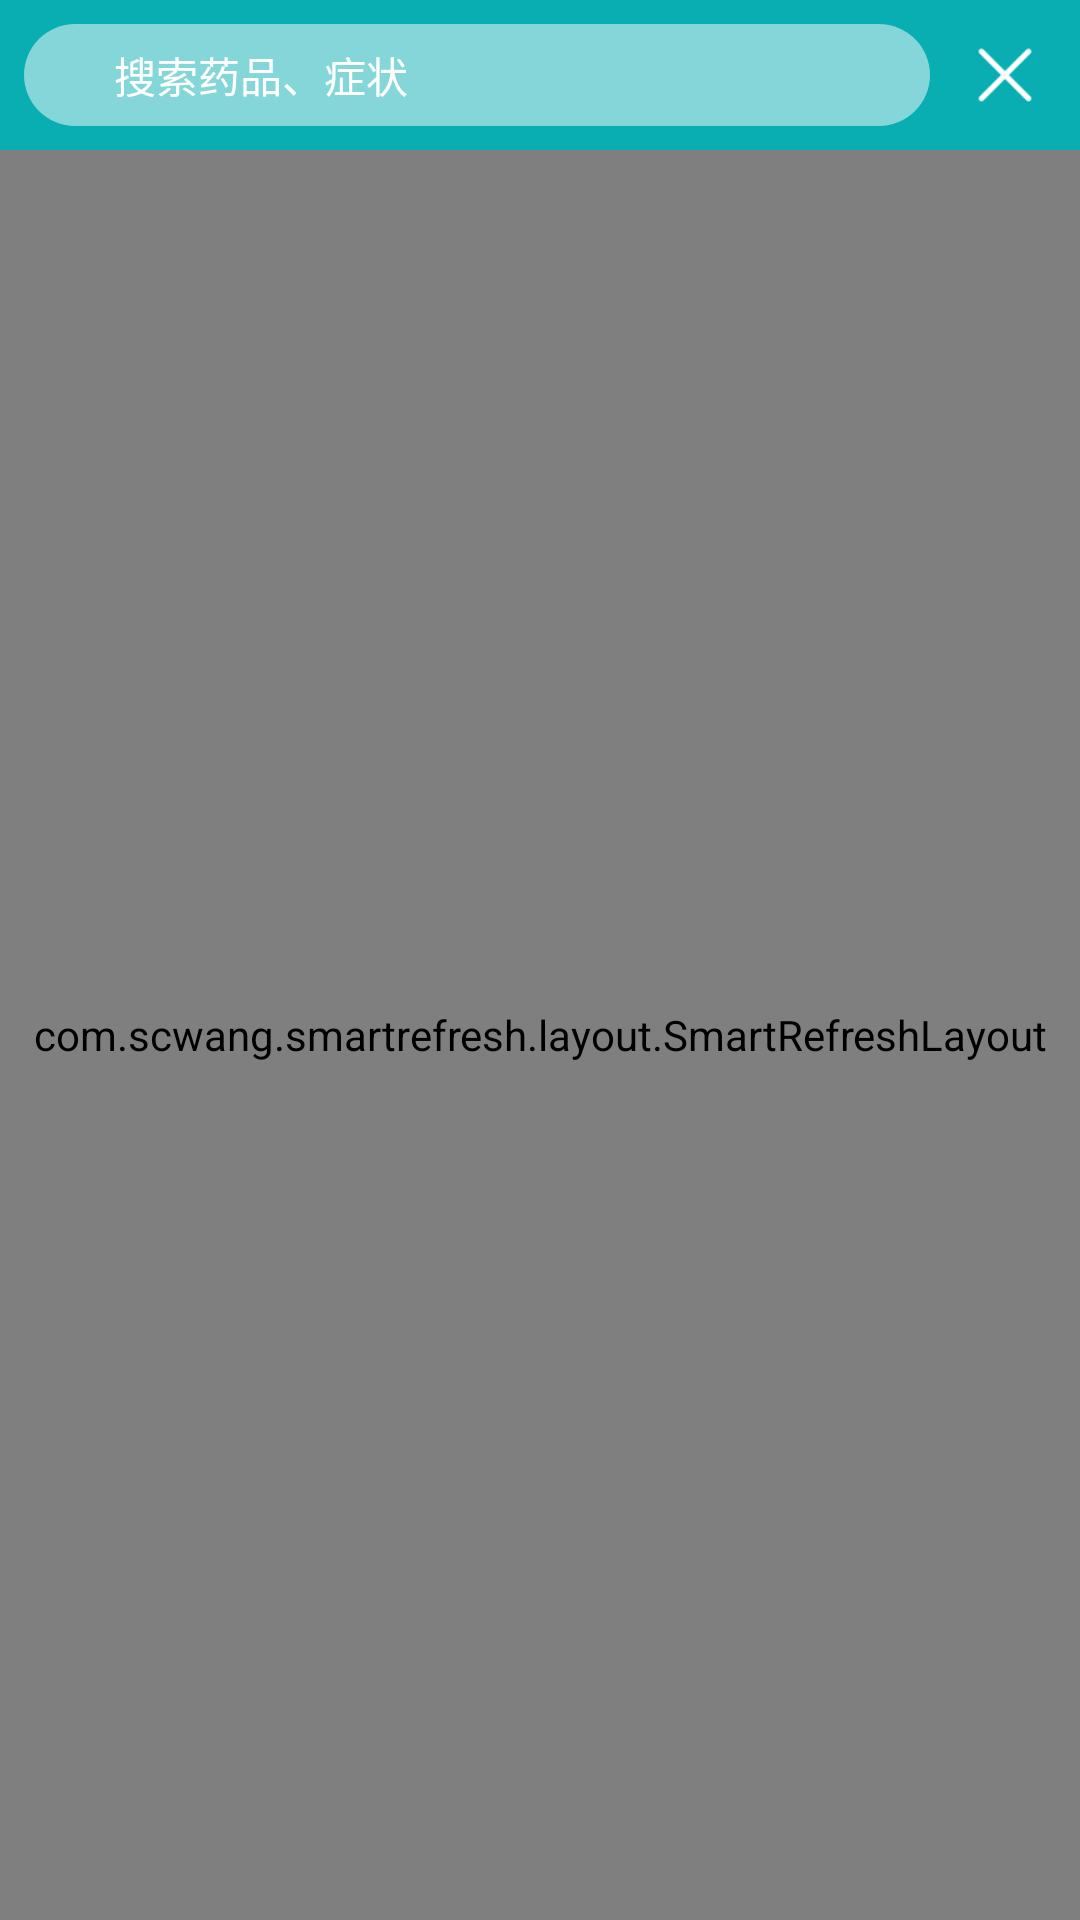

Locate icon controls on the screen. Image size 1080 x 1920, boxes as [x1,y1,x2,y2].
shut: [978,48,1032,102]
